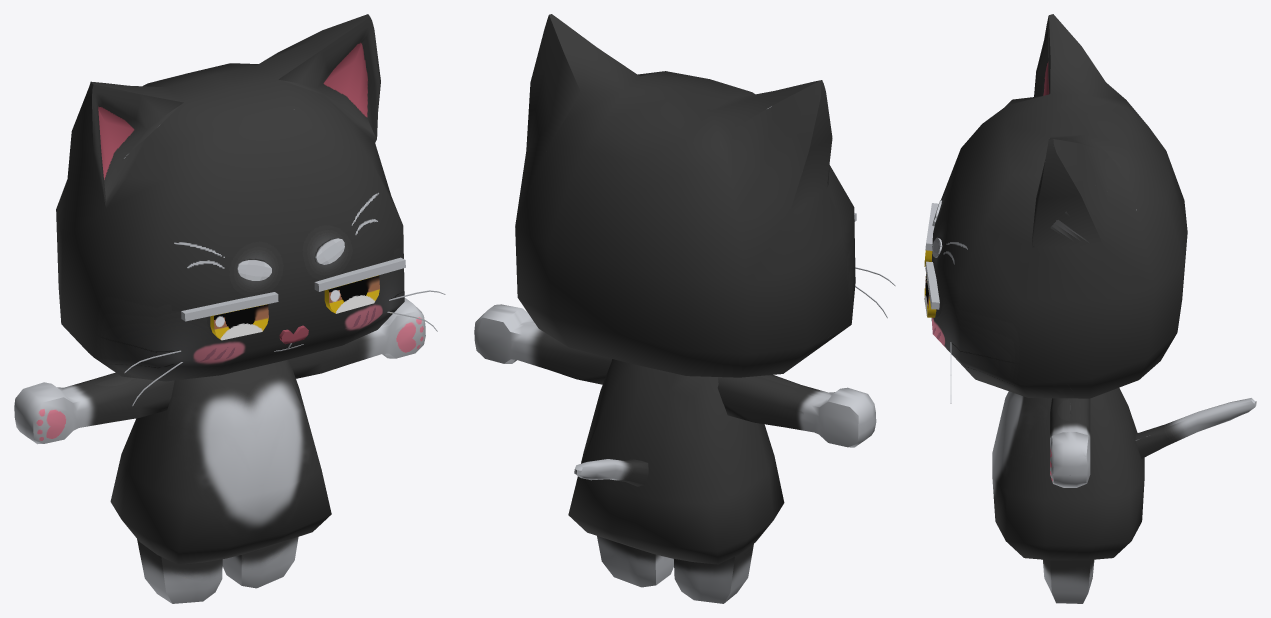
File: SockBlackCat.fbx
The picture shows the model from 3 angles, left to right: view 1: azimuth 30°, elevation 25°; view 2: azimuth 150°, elevation 25°; view 3: azimuth 270°, elevation 25°; orthographic projection. The views are drawn at different scales.
Parts seen in each view (by area): view 1: BlackCat; view 2: BlackCat; view 3: BlackCat.
Part boxes in pixels (x1,y1,x2,y2): BlackCat: [14, 14, 445, 603]; BlackCat: [474, 14, 895, 603]; BlackCat: [924, 14, 1256, 603].
Size of the model in its own units: 280 by 369 by 220.
Materials: 1 (1 with a texture image).
